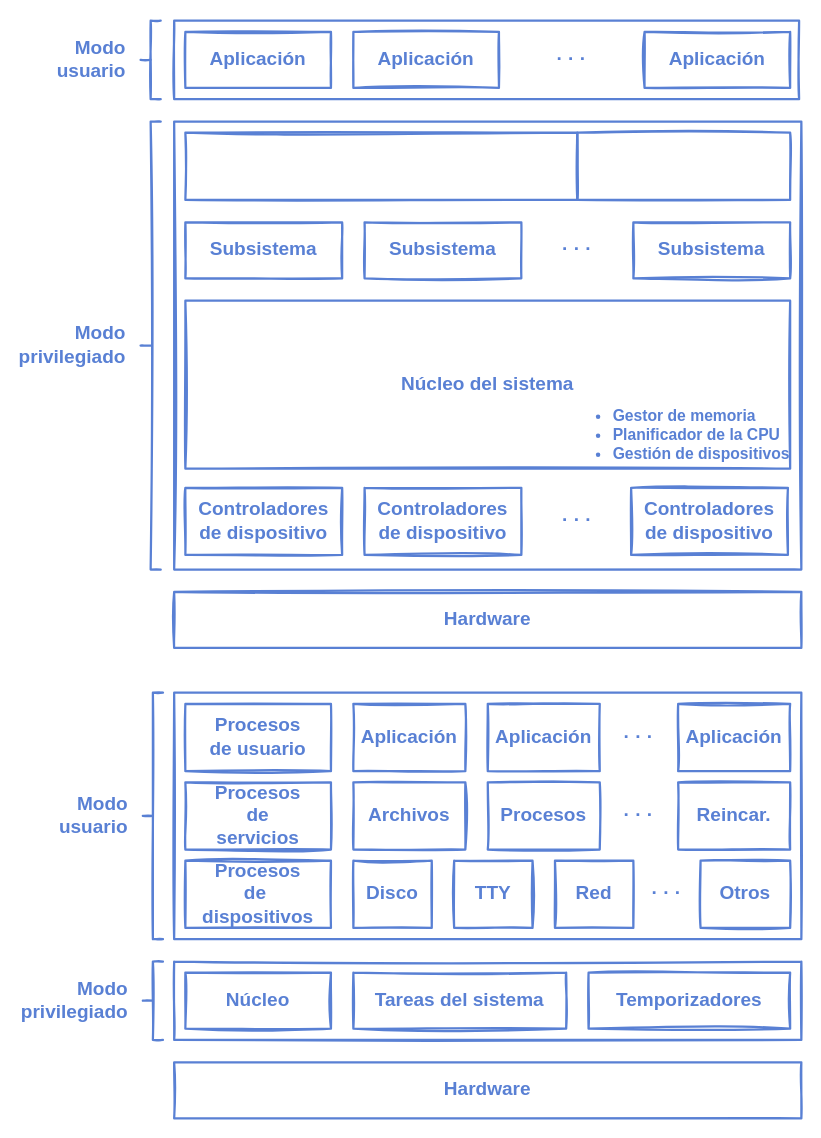
This 821x1138 diagram has some shape labels left out. Here are the shapes that lost their labels. From the top down, the centre of each, then its label:
(381,165): Interfaz de programación de aplicaciones (API)
(683,165): Extensiones del API
